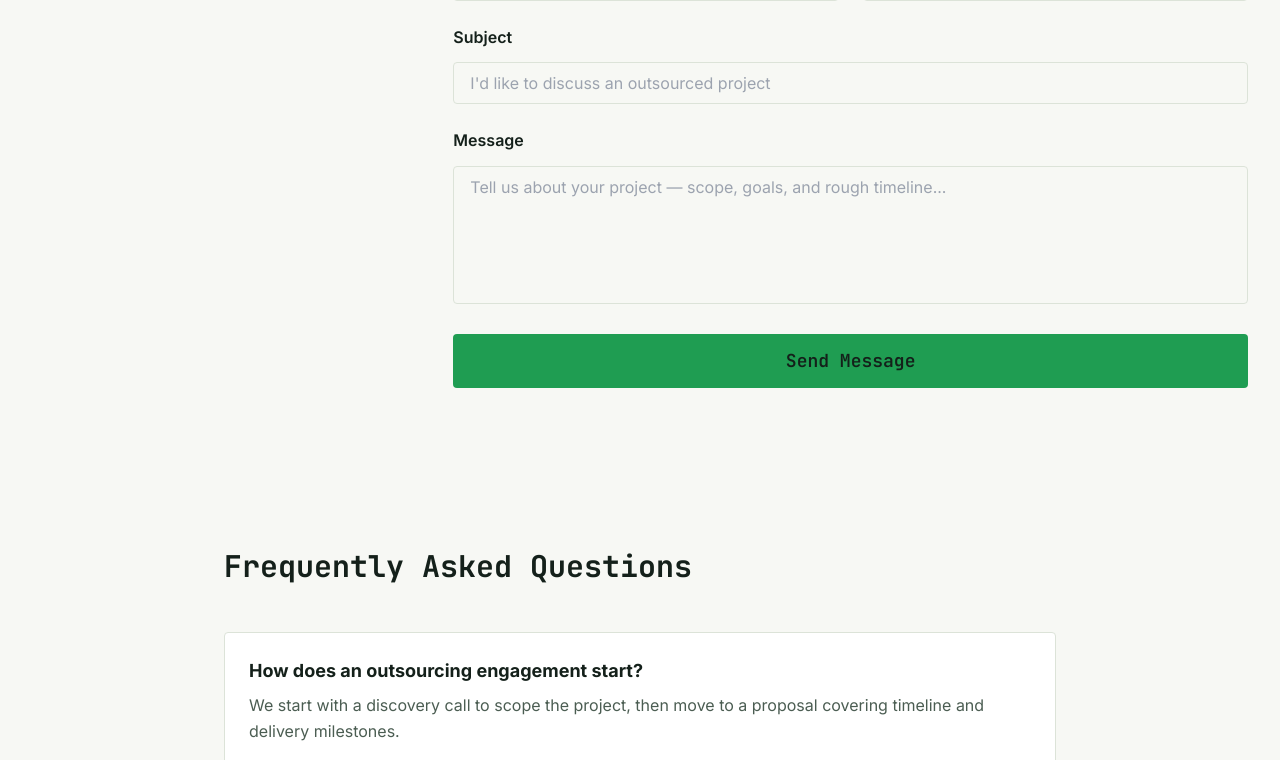
Test: Contact › shows required-field validation errors when submitting an empty form
(page scrolled)
Click the button "Send Message": coordinates (851, 361) [453,334,1248,388]
(page scrolled)
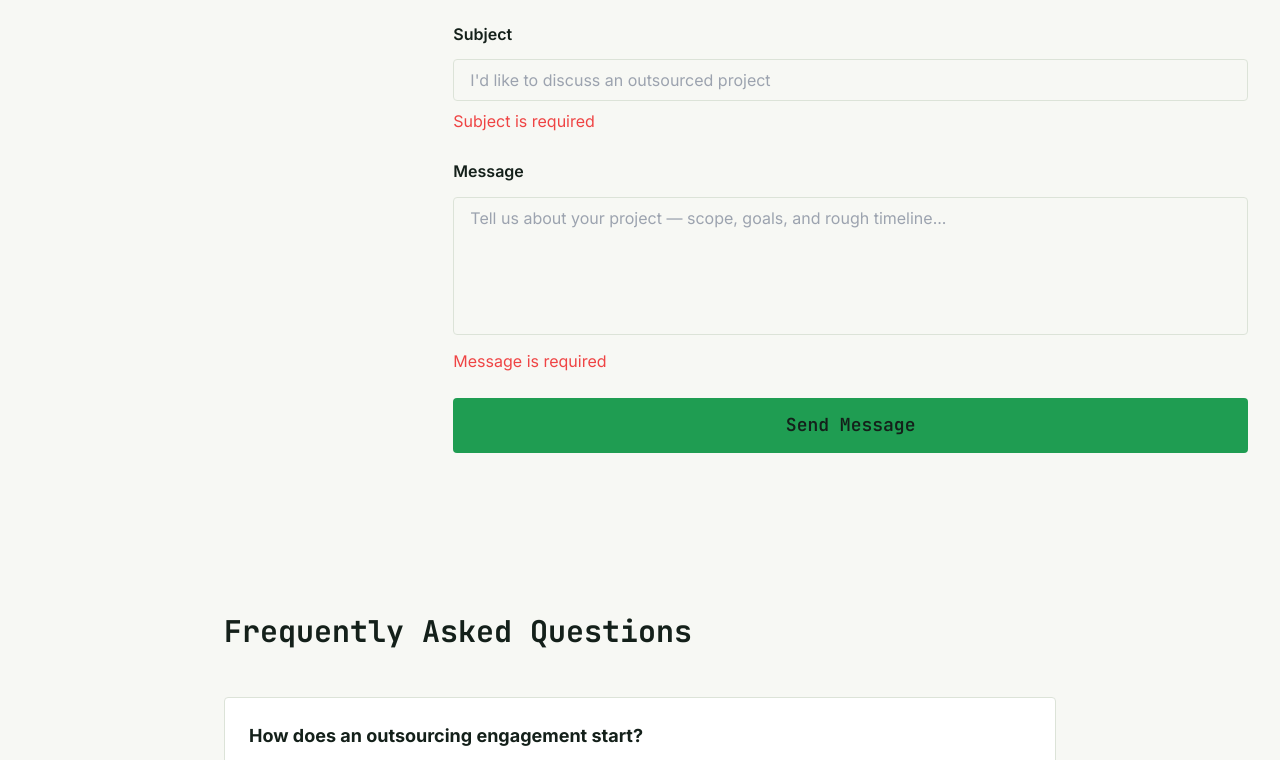
Expected: the text "Subject is required" is shown, [453,111,595,131]
Expected: the text "Message is required" is shown, [453,350,606,370]
